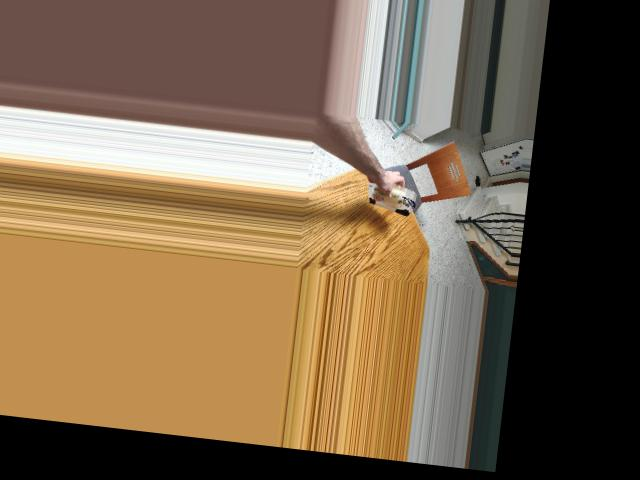cheese: (365, 179, 416, 216)
